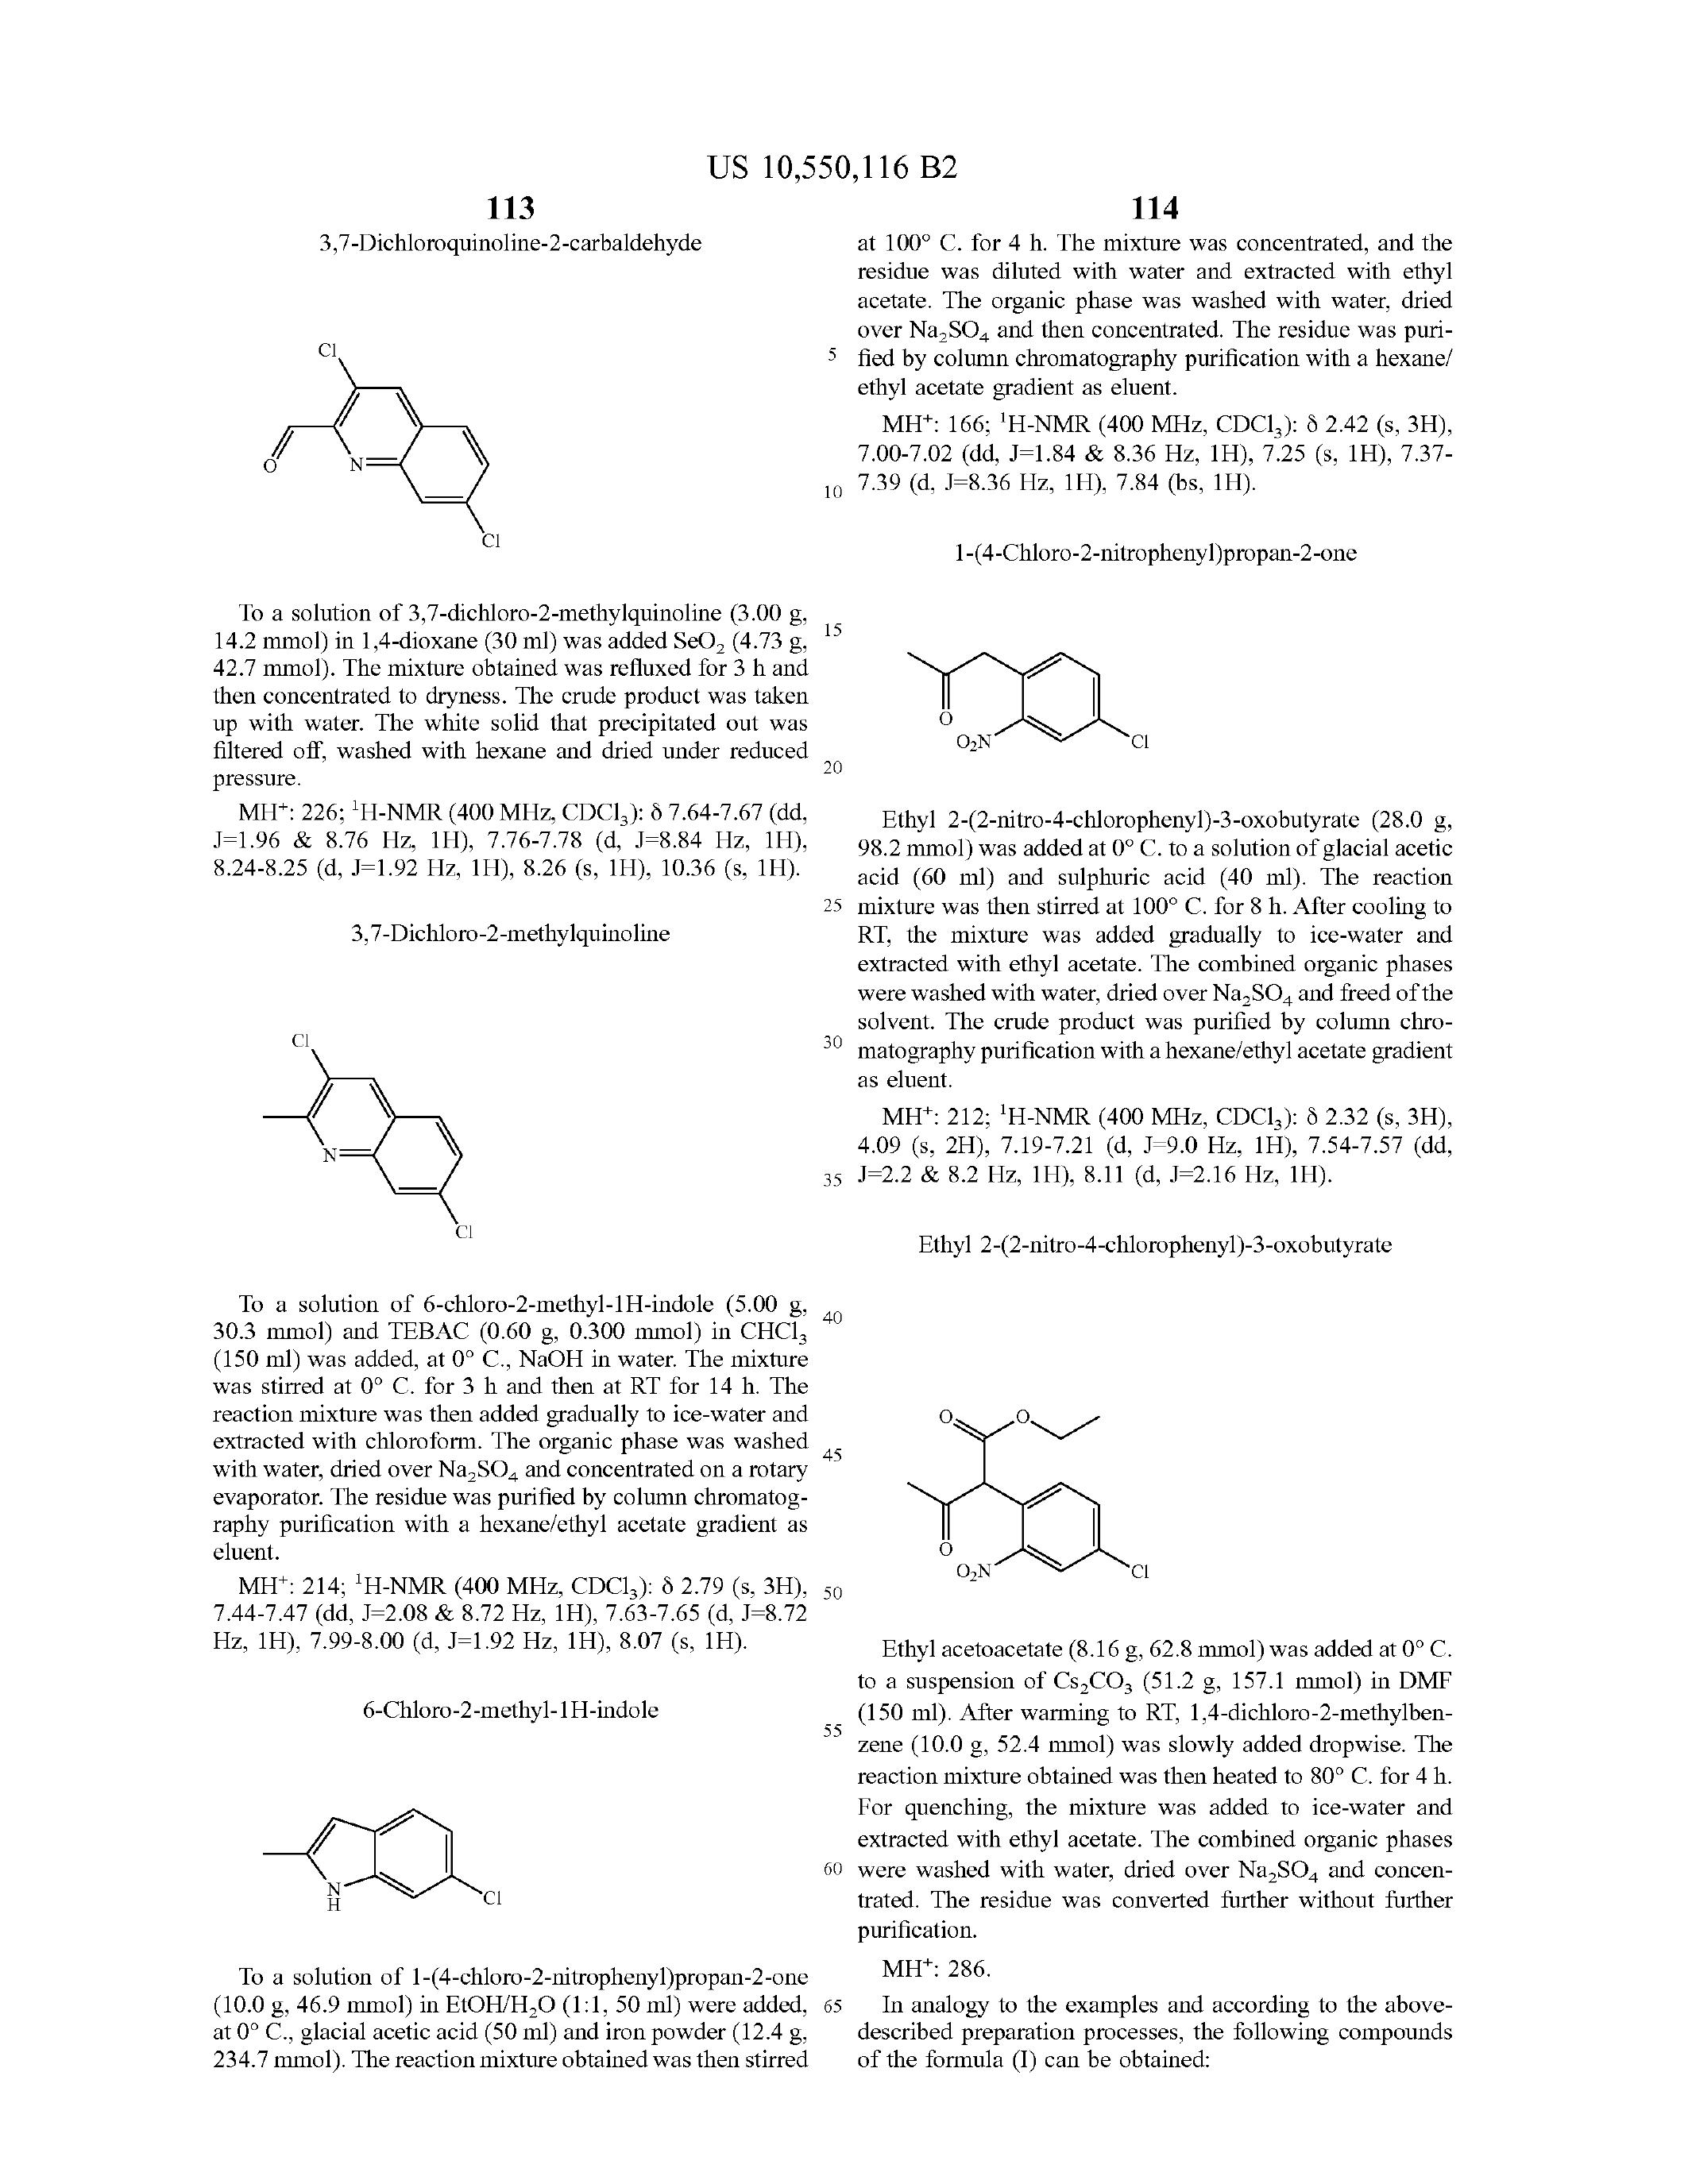intermediates: (197, 975, 580, 1283), (250, 308, 638, 594), (246, 1755, 681, 1962), (876, 565, 1222, 805), (915, 1365, 1215, 1592)
